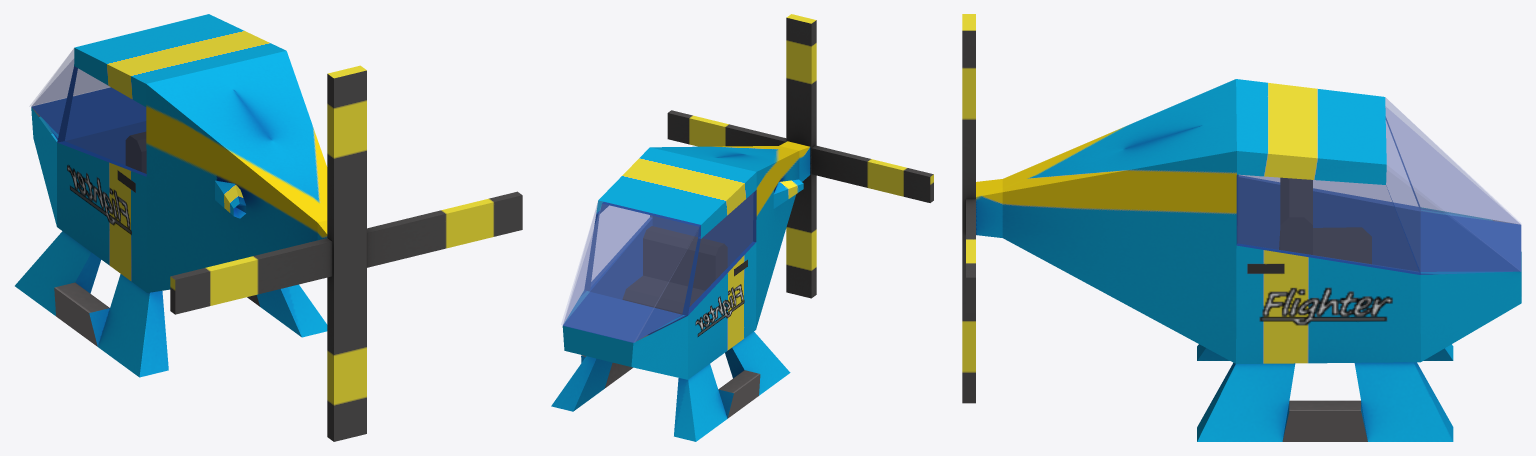
The model's file is model_vehicle_helicopter.fbx.
3 renders of one model, left to right at view 1: azimuth 30°, elevation 25°; view 2: azimuth 150°, elevation 25°; view 3: azimuth 270°, elevation 25°, orthographic. The views are drawn at different scales.
Parts seen in each view (by area): view 1: mesh_helicopter; view 2: mesh_helicopter; view 3: mesh_helicopter.
Boxes of the visible parts, x1,y1,x2,y2 form: mesh_helicopter: [15, 14, 522, 441]; mesh_helicopter: [551, 14, 933, 441]; mesh_helicopter: [962, 14, 1521, 441].
Bounding box in the file's own units: 447 × 447 × 608.
